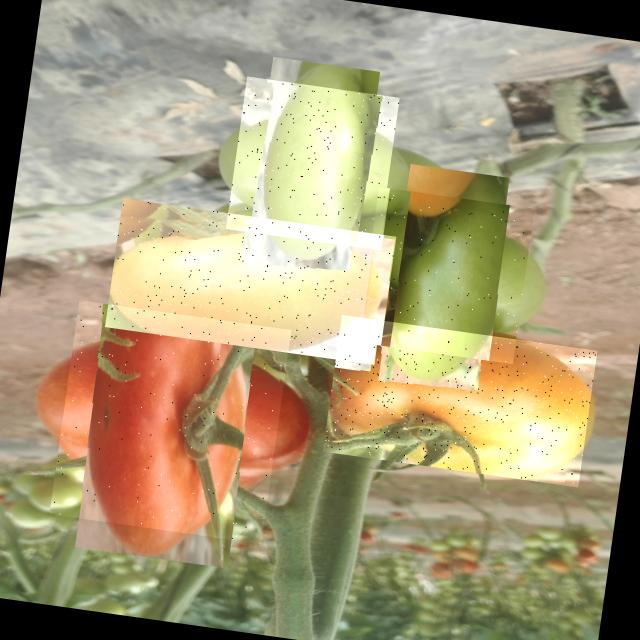Ripe Tomato: (50, 300, 292, 544)
Unripe Tomato: (105, 198, 392, 365), (322, 315, 598, 488), (358, 187, 534, 364), (225, 77, 399, 250)
